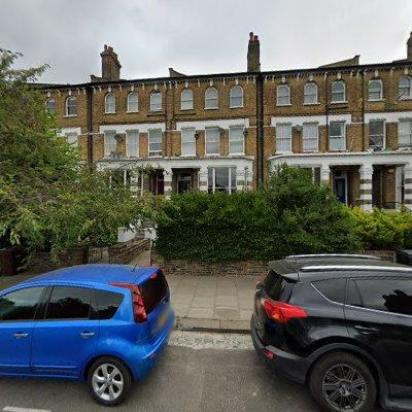stationary-car-onstreet: (250, 252, 412, 412), (0, 264, 176, 408)
